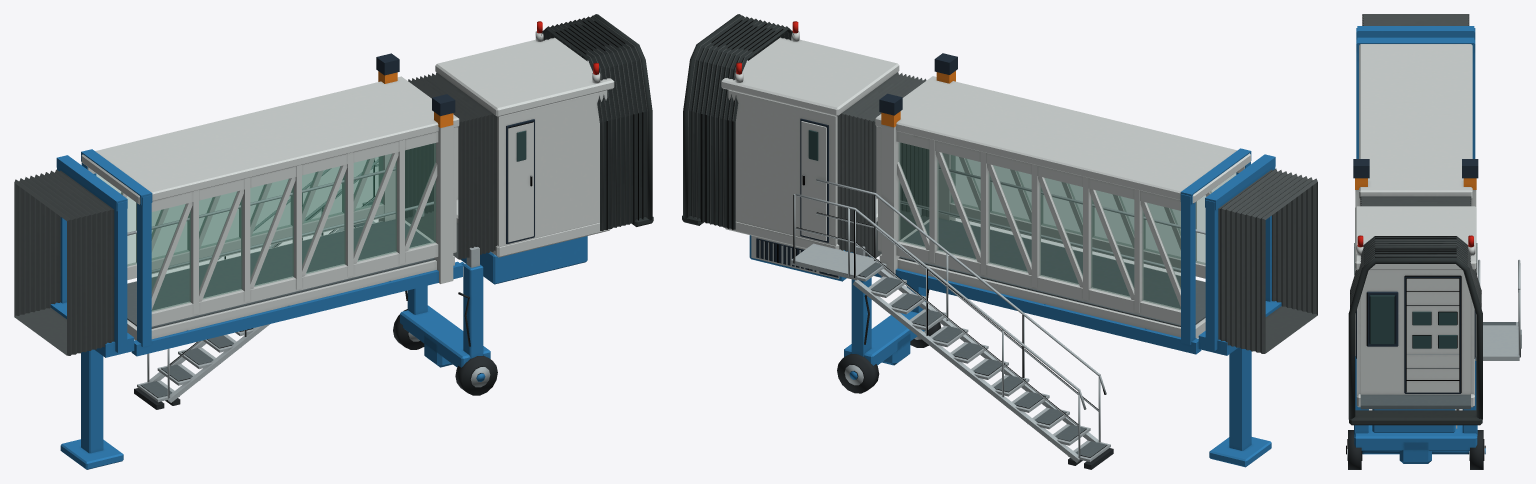
Rendered from airport_jetway.glb.
3 views of the same model, side by side, from view 1: azimuth 30°, elevation 25°; view 2: azimuth 150°, elevation 25°; view 3: azimuth 270°, elevation 25° (orthographic). The views are drawn at different scales.
Visible parts, largest first — view 1: JetwayStructure, JetwayGlazing; view 2: JetwayStructure, JetwayGlazing; view 3: JetwayStructure.
Part boxes in pixels (box(x1,y1,x2,y2)): JetwayStructure: box(14, 14, 653, 469); JetwayGlazing: box(96, 143, 435, 311); JetwayStructure: box(682, 14, 1317, 469); JetwayGlazing: box(899, 142, 1235, 309); JetwayStructure: box(1346, 14, 1521, 469).
Size of the model in its own units: 6.86 by 3.39 by 1.85.
2 materials, 1 textured.
